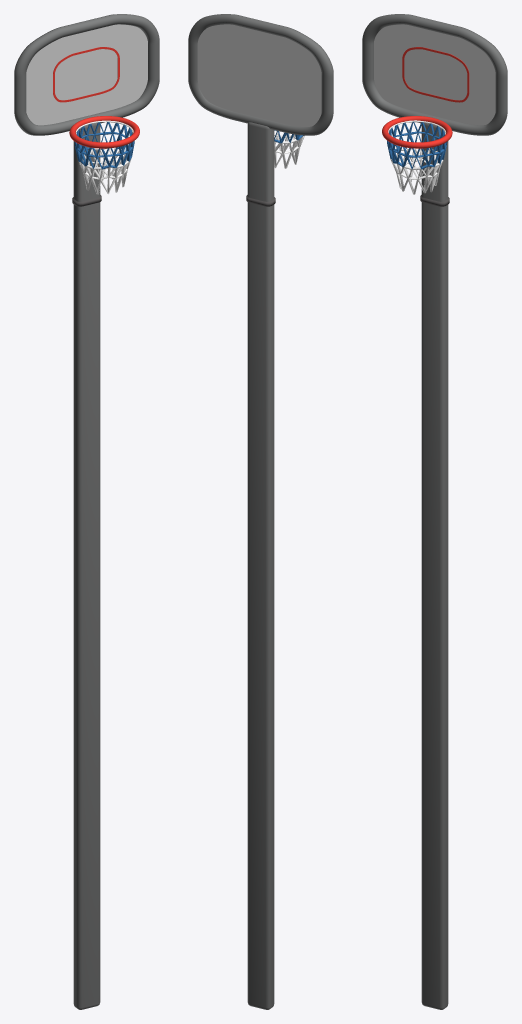
File: hoopfinish.fbx
The picture shows the model from 3 angles, left to right: view 1: azimuth 30°, elevation 25°; view 2: azimuth 150°, elevation 25°; view 3: azimuth 330°, elevation 25°; orthographic projection.
Visible parts, largest first — view 1: hoopfinish; view 2: hoopfinish; view 3: hoopfinish.
Part boxes in pixels (<box>): hoopfinish: <box>14,14,159,1009</box>; hoopfinish: <box>188,14,333,1009</box>; hoopfinish: <box>362,14,507,1009</box>.
Bounding box in the file's own units: 360 × 2336 × 166.
